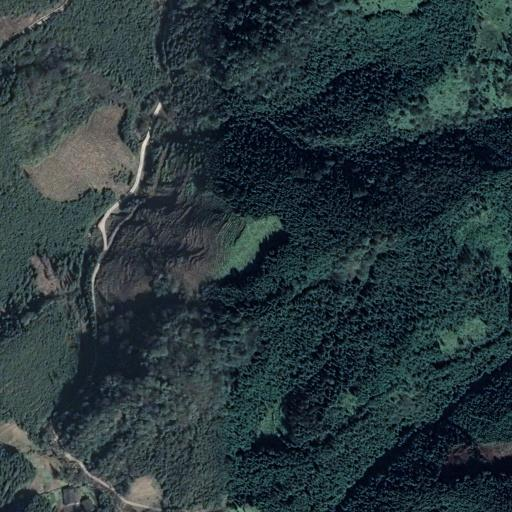landslide: (18, 102, 139, 206)
